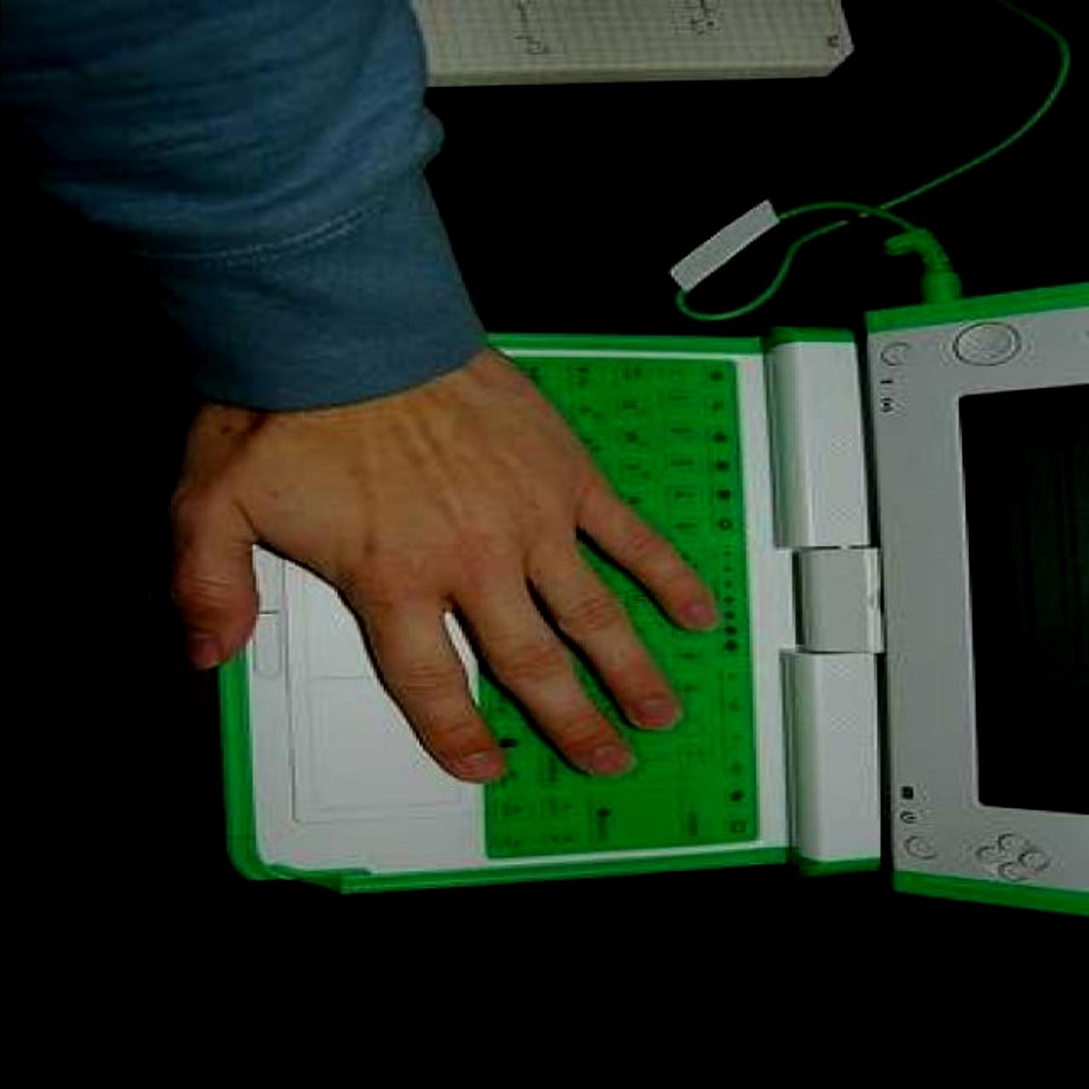laptop: (226, 259, 1084, 952)
